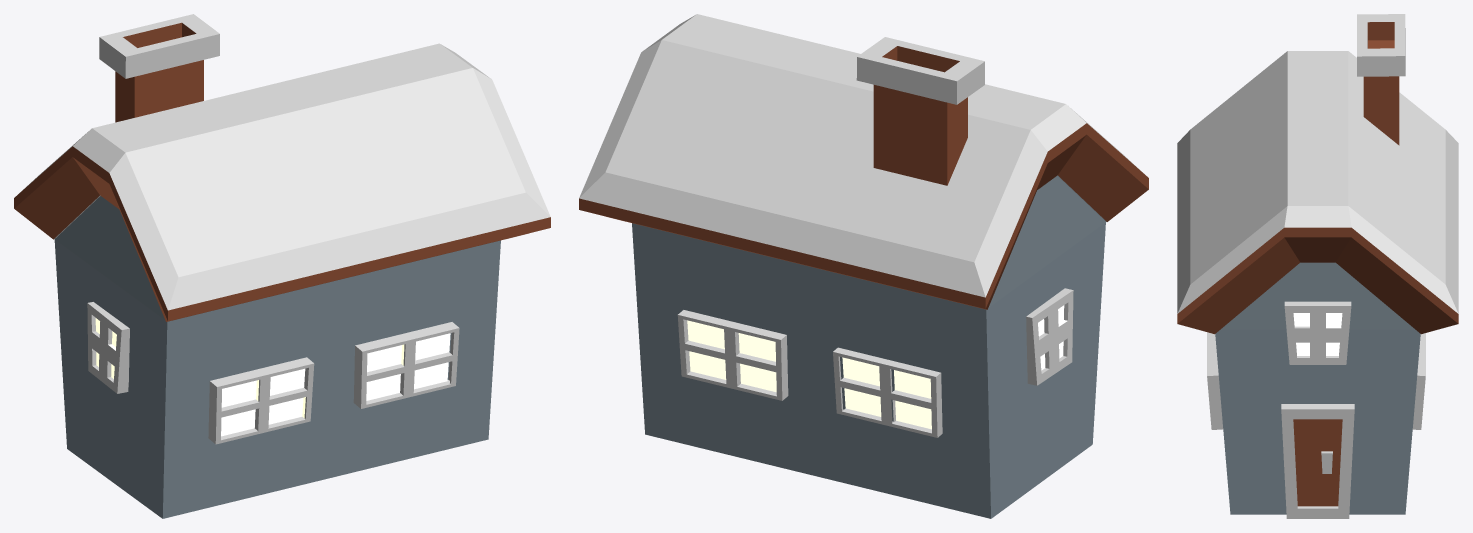
Rendered from house.glb.
The picture shows the model from 3 angles, left to right: view 1: azimuth 30°, elevation 25°; view 2: azimuth 150°, elevation 25°; view 3: azimuth 270°, elevation 25°; orthographic projection. The views are drawn at different scales.
Parts seen in each view (by area): view 1: Cube.001; view 2: Cube.001; view 3: Cube.001.
Boxes of the visible parts, bbox=[...] form: Cube.001: bbox=[14, 14, 550, 518]; Cube.001: bbox=[579, 14, 1148, 518]; Cube.001: bbox=[1177, 14, 1458, 518].
Size of the model in its own units: 3.92 by 3.96 by 2.73.
